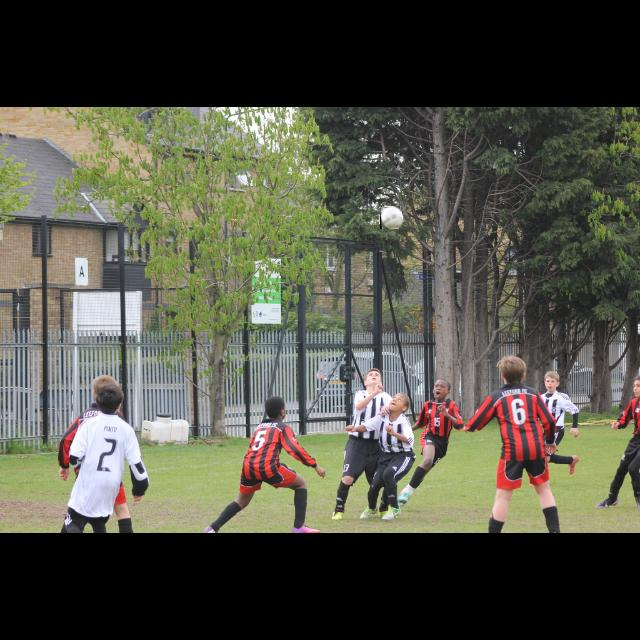Football: (380, 207, 402, 229)
